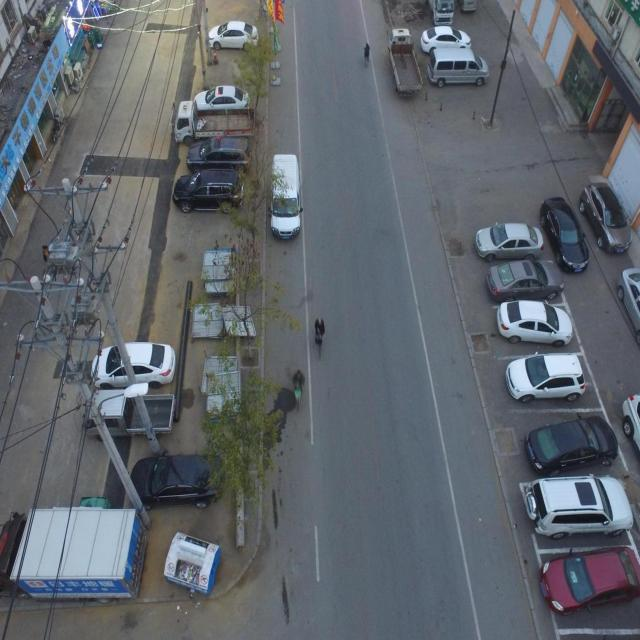p3rson: (313, 317, 325, 343), (292, 368, 305, 388), (364, 40, 370, 59)
